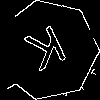K: (22, 25, 74, 81)
